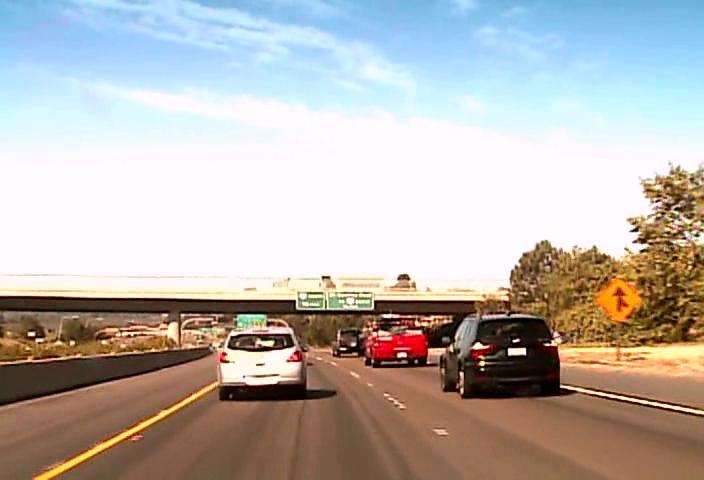merge: (593, 275, 642, 324)
